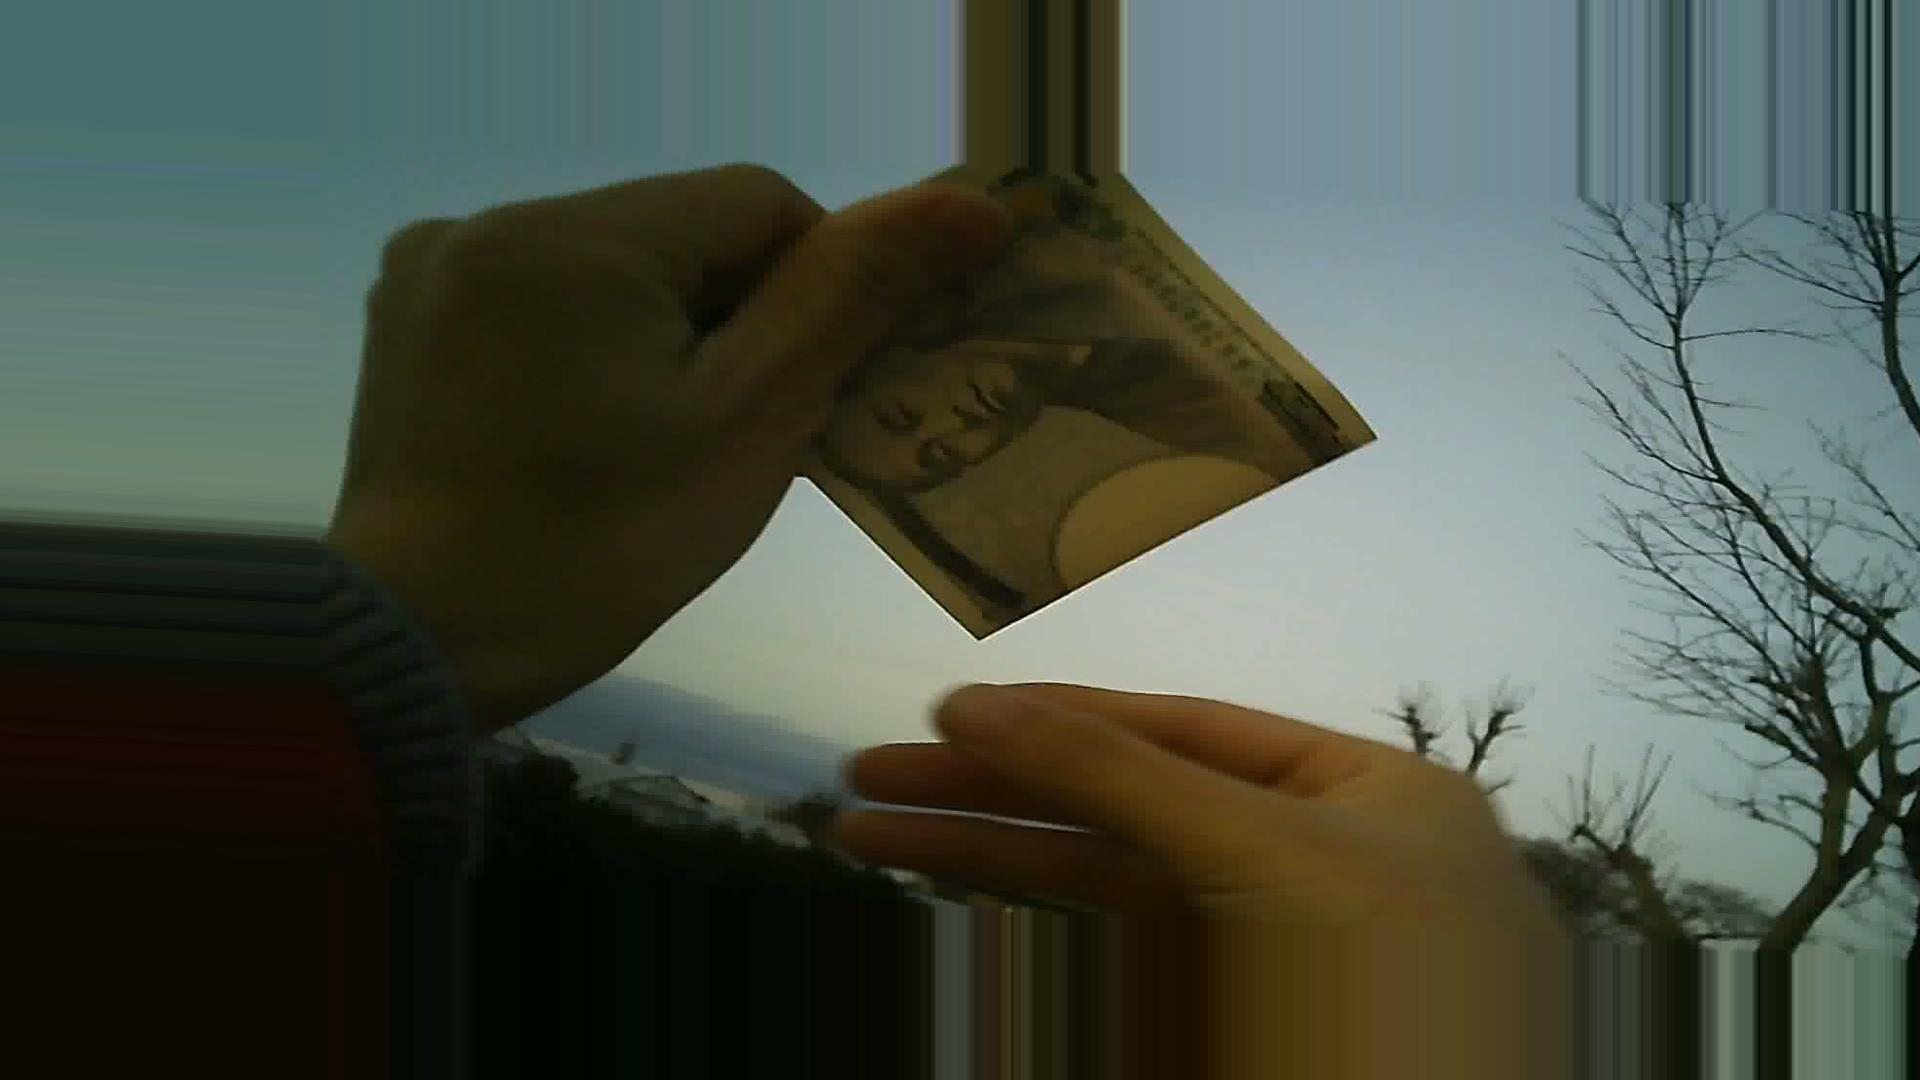10,000 Yen: (687, 185, 1338, 618)
